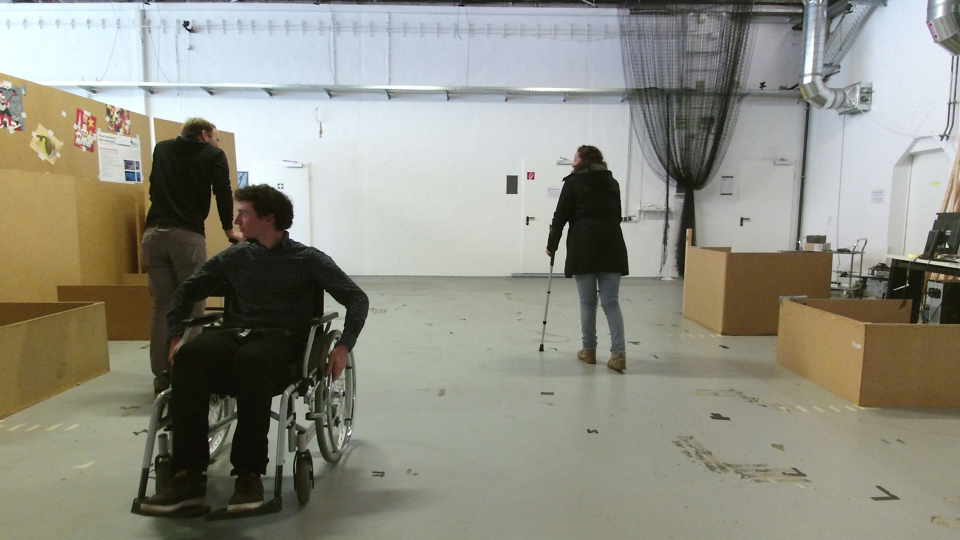crutches: (531, 136, 633, 378)
wheelchair: (127, 179, 371, 521)
